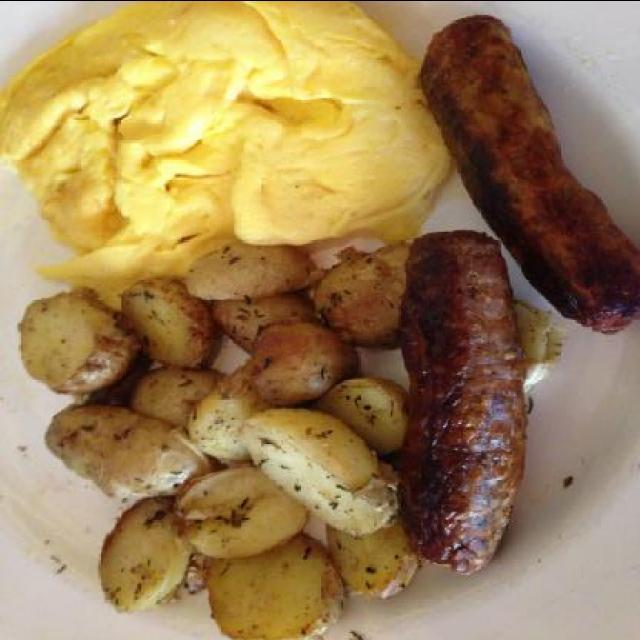Potato: (14, 240, 412, 640), (230, 321, 352, 412)
